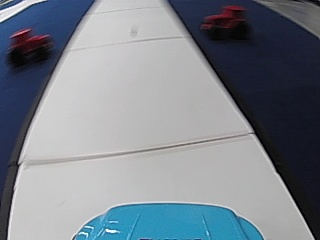tractor: (6, 26, 51, 66), (200, 4, 247, 41)
